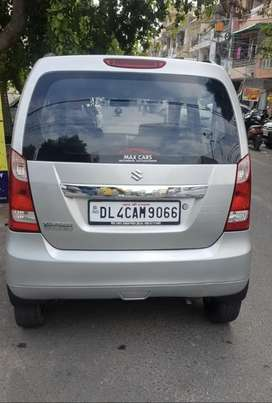DL4CAM9066: (90, 201, 178, 222)
